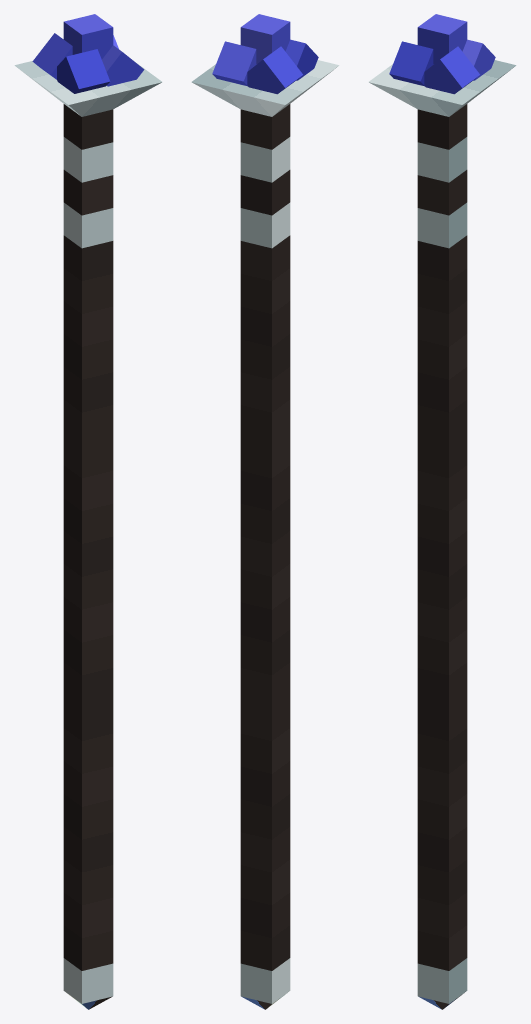
The model's file is staff_vinteum.obj.
3 views of the same model, side by side, from view 1: azimuth 30°, elevation 25°; view 2: azimuth 150°, elevation 25°; view 3: azimuth 330°, elevation 25° (orthographic).
Visible parts, largest first — view 1: STAFF_VAR1_Cube.001; view 2: STAFF_VAR1_Cube.001; view 3: STAFF_VAR1_Cube.001.
Part boxes in pixels (x1,y1,x2,y2): STAFF_VAR1_Cube.001: (14, 14, 162, 1009); STAFF_VAR1_Cube.001: (191, 14, 339, 1009); STAFF_VAR1_Cube.001: (368, 14, 516, 1009).
Size of the model in its own units: 0.1875 by 1.88 by 0.1875.
